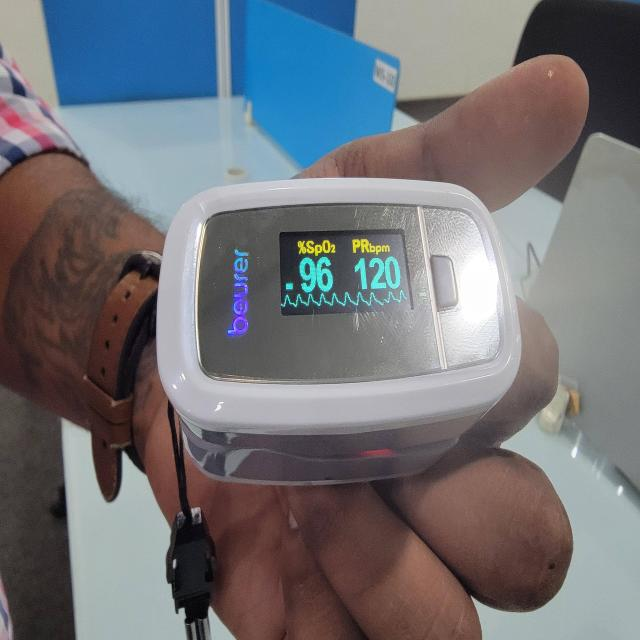spo2: (156, 179, 551, 489)
